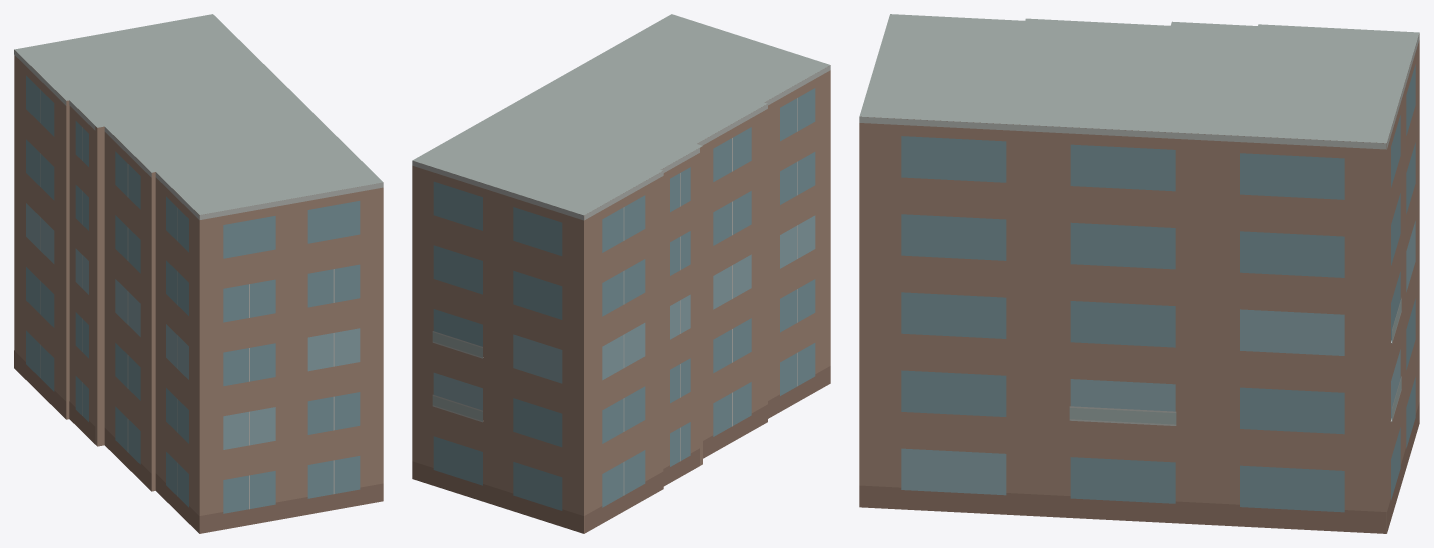
Rendered from survey-upis-32873757.glb.
The picture shows the model from 3 angles, left to right: view 1: azimuth 30°, elevation 25°; view 2: azimuth 150°, elevation 25°; view 3: azimuth 270°, elevation 25°; orthographic projection. The views are drawn at different scales.
Parts seen in each view (by area): view 1: survey-upis-32873757.tmp; view 2: survey-upis-32873757.tmp; view 3: survey-upis-32873757.tmp.
Boxes of the visible parts, box(x1,y1,x2,y2) form: survey-upis-32873757.tmp: box(14, 14, 383, 533); survey-upis-32873757.tmp: box(412, 14, 830, 533); survey-upis-32873757.tmp: box(859, 14, 1419, 533).
Bounding box in the file's own units: 10.83 × 15.25 × 19.83.
